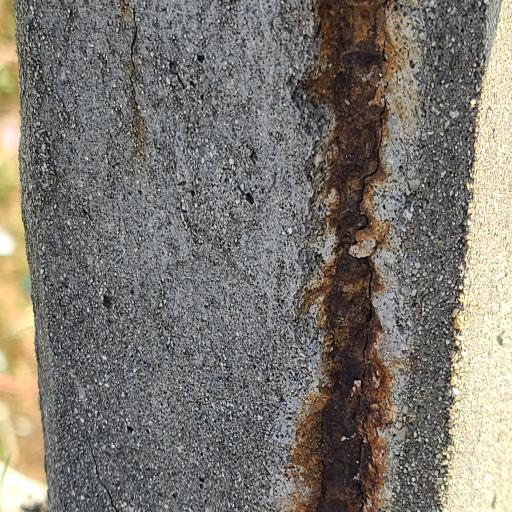exposed_rebar: (314, 2, 390, 512)
